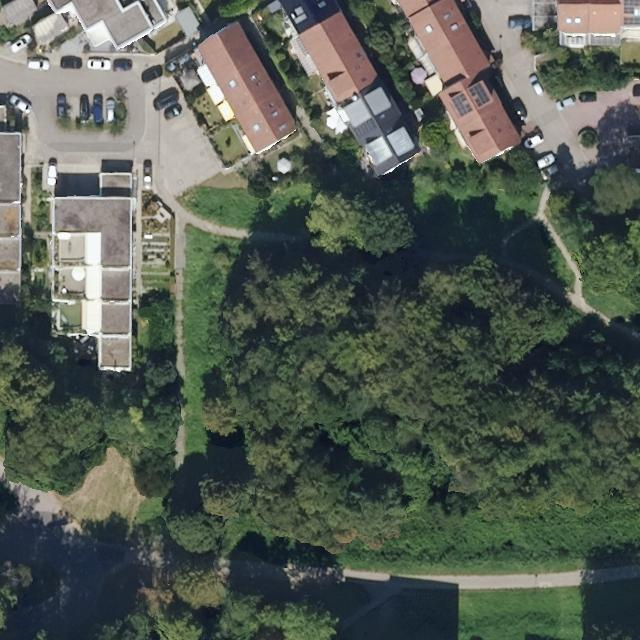PV: (466, 80, 493, 109), (449, 91, 475, 120), (622, 0, 639, 15), (623, 15, 639, 27)
